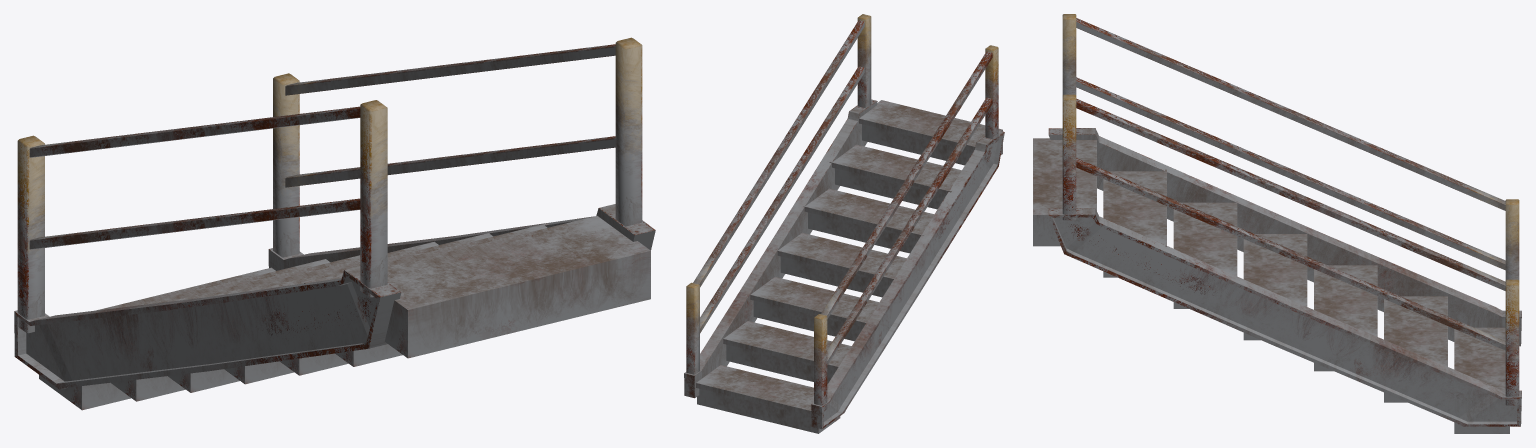
Rendered from Stairs.fbx.
The picture shows the model from 3 angles, left to right: view 1: azimuth 30°, elevation 25°; view 2: azimuth 150°, elevation 25°; view 3: azimuth 270°, elevation 25°; orthographic projection. The views are drawn at different scales.
Visible parts, largest first — view 1: Cube.001, Cube, Cylinder.013, Cylinder.011, Cylinder.016, Cylinder.015; view 2: Cube.001, Cube, Cylinder.016, Cylinder.015, Cylinder.011, Cylinder.013; view 3: Cube, Cube.001, Cylinder.016, Cylinder.015, Cylinder.013, Cylinder.011.
Boxes of the visible parts, <box> form: Cube.001: <box>39,216,650,410</box>; Cube: <box>14,204,655,389</box>; Cylinder.013: <box>360,37,642,297</box>; Cylinder.011: <box>17,73,299,333</box>; Cylinder.016: <box>29,44,615,157</box>; Cylinder.015: <box>29,136,615,249</box>; Cube.001: <box>696,100,1002,433</box>; Cube: <box>684,99,1004,429</box>; Cylinder.016: <box>693,20,992,318</box>; Cylinder.015: <box>700,66,992,364</box>; Cylinder.011: <box>686,282,827,411</box>; Cylinder.013: <box>857,14,998,143</box>; Cube: <box>1048,128,1521,426</box>; Cube.001: <box>1033,138,1509,433</box>; Cylinder.016: <box>1076,18,1505,290</box>; Cylinder.015: <box>1076,77,1505,350</box>; Cylinder.013: <box>1062,14,1076,220</box>; Cylinder.011: <box>1505,199,1519,405</box>.
Bounding box in the file's own units: 418 × 761 × 994.
